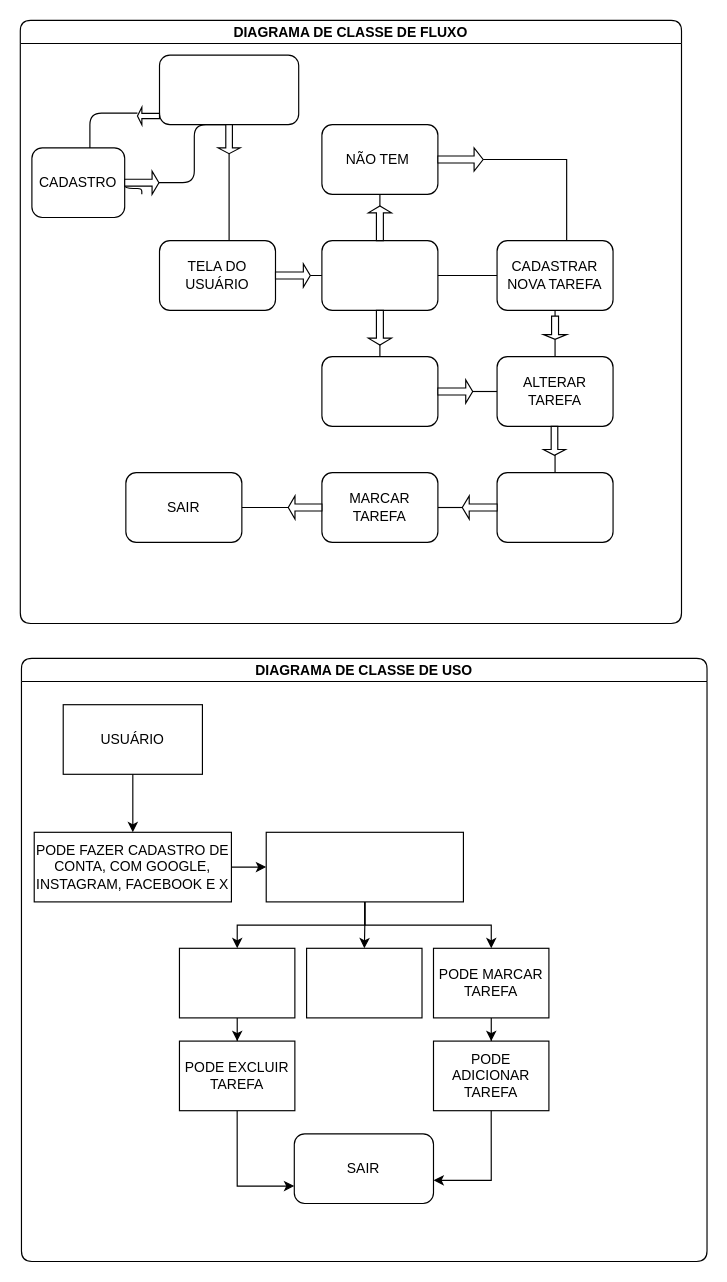
This 727x1282 diagram has some shape labels left out. The shapes that lost their labels are listed below. From the top down, each one's centre as x and y in pixels, then its label:
At point 228,89: "LOGIN".
At point 379,275: "PROCURAR TAREFA".
At point 379,391: "ACHOU A TAREFA".
At point 554,507: "EXCLUIR TAREFA".
At point 364,866: "PODE FAZER LOGIN COM GOOGLE, INSTAGRAM, FACEBOOK E X".
At point 236,982: "PODE ALTERAR TAREFA".
At point 363,982: "PODE BUSCAR TAREFA".
